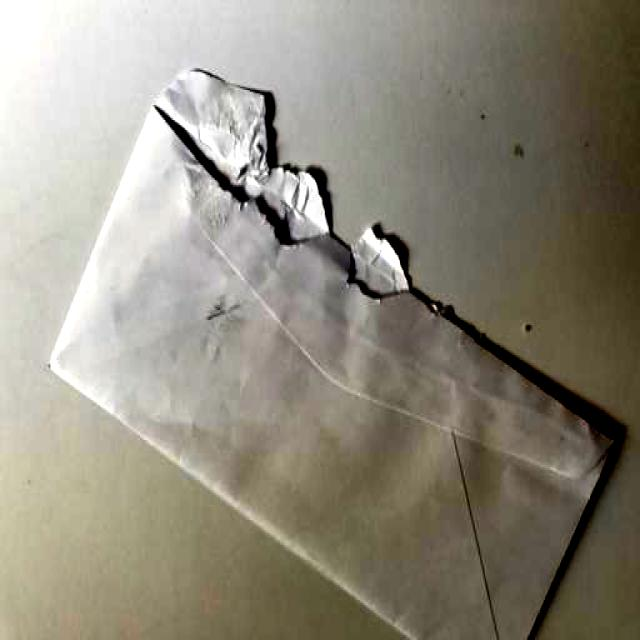Paper: (40, 53, 622, 640)
